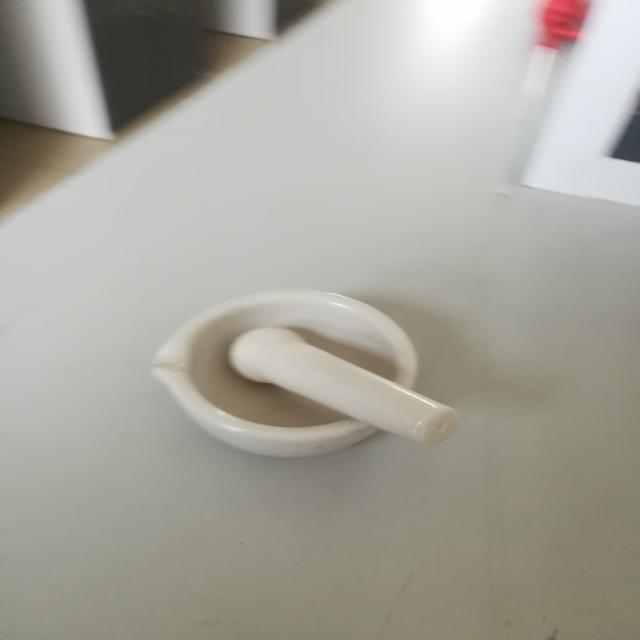Porcelain_Mortar Pestle: (110, 234, 487, 498)
